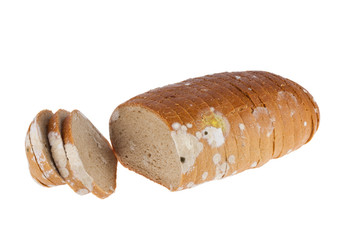mold_bread: (50, 132, 92, 189), (171, 119, 204, 179), (207, 148, 245, 181), (22, 122, 45, 164), (199, 123, 228, 149)
